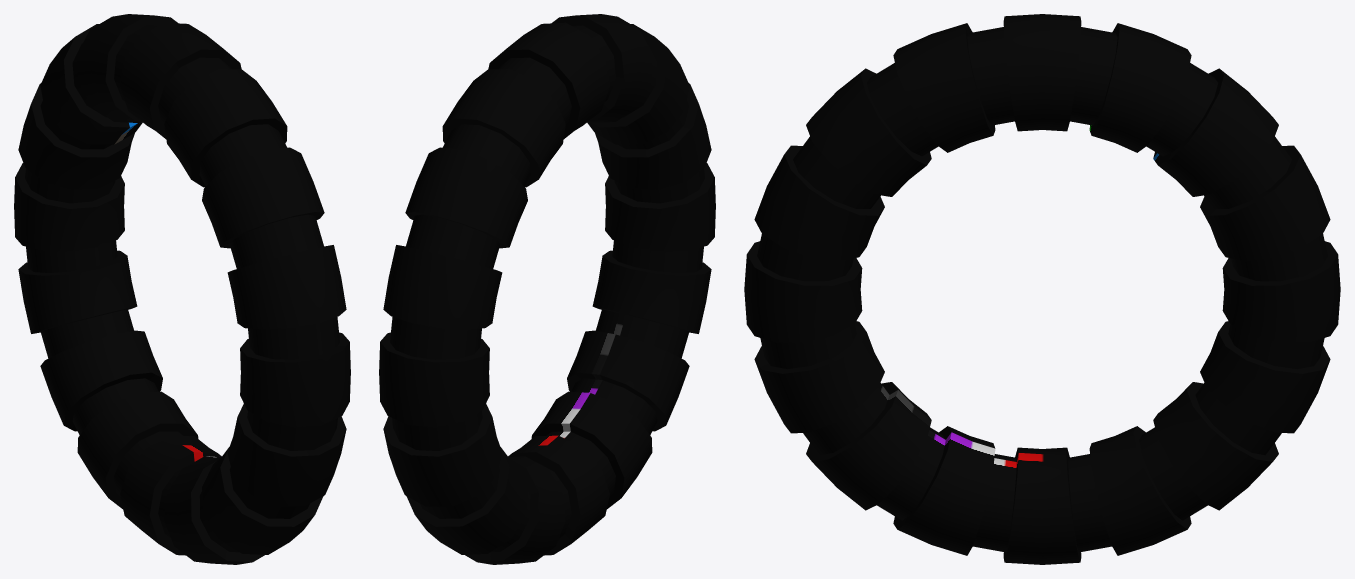
The model's file is Hyper_Torus.fbx.
3 views of the same model, side by side, from view 1: azimuth 30°, elevation 25°; view 2: azimuth 150°, elevation 25°; view 3: azimuth 270°, elevation 25° (orthographic). The views are drawn at different scales.
Parts seen in each view (by area): view 1: Hyper Torus_PACK; view 2: Hyper Torus_PACK; view 3: Hyper Torus_PACK.
Part boxes in pixels (x1,y1,x2,y2): Hyper Torus_PACK: (14,14,350,564); Hyper Torus_PACK: (379,14,715,564); Hyper Torus_PACK: (744,14,1340,564).
Bounding box in the file's own units: 1.52 × 7.81 × 7.81.
Materials: 1 (1 with a texture image).
